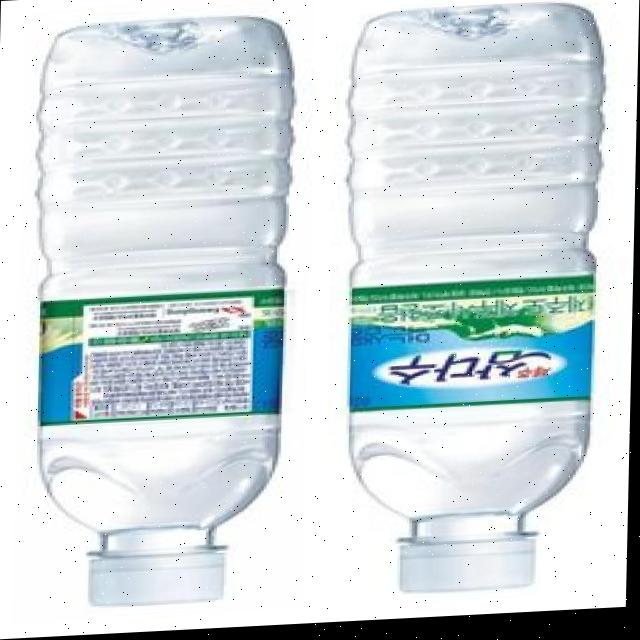bottle: (303, 0, 604, 620)
